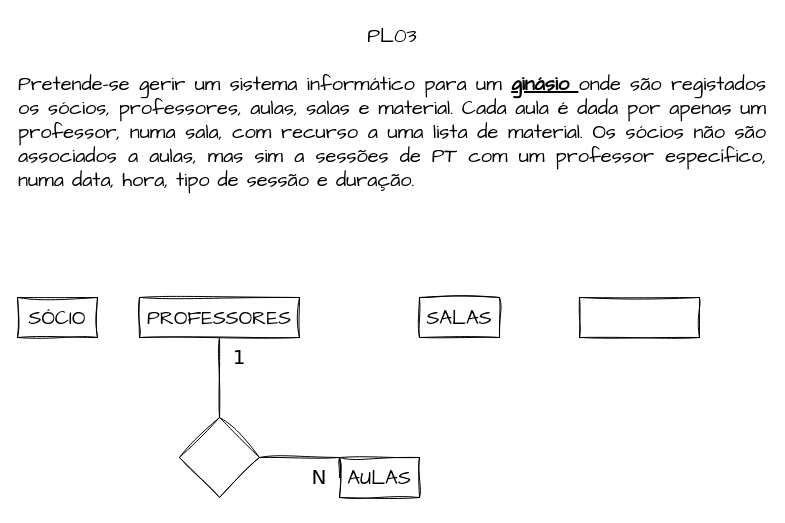
Image size: 785x523. Some labels were removed from this diagram. The box of each missing label's shape, as (x1, y1, x2, y2) in pixels:
EXECUTA: (178, 416, 260, 498)
MATERIAL: (578, 296, 700, 338)
